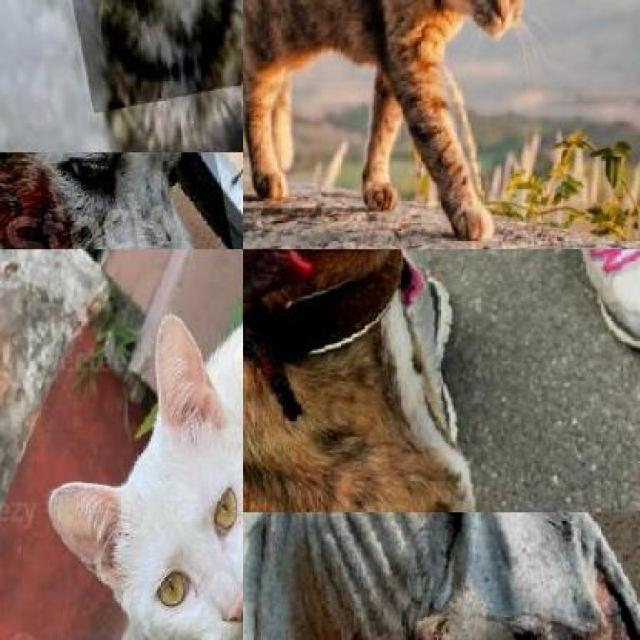cat: (46, 249, 243, 640), (243, 0, 551, 242), (0, 0, 243, 112)
cow: (243, 512, 640, 640)
dog: (243, 250, 640, 512), (0, 153, 243, 250)
injured: (298, 569, 640, 640), (243, 249, 411, 342), (0, 188, 108, 249)
